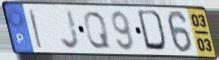6: (166, 9, 194, 55)
9: (110, 9, 136, 52)
D: (136, 8, 170, 54)
I: (27, 8, 44, 50)
J: (59, 8, 82, 51)
Q: (82, 10, 113, 50)
